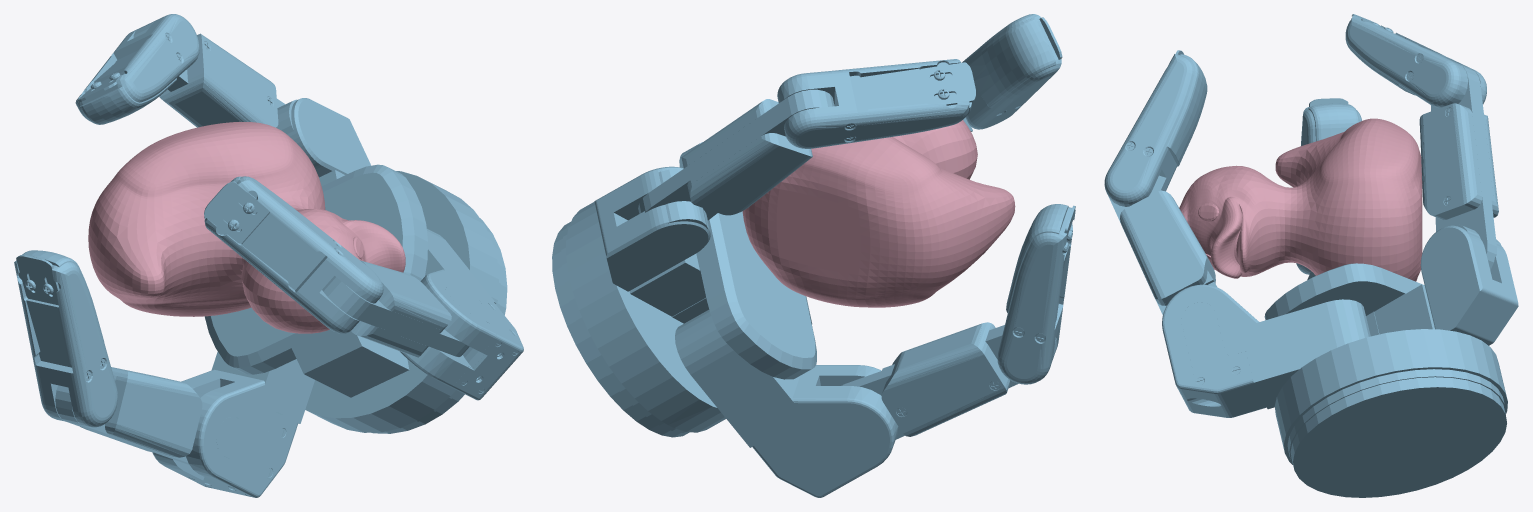
3 renders of one model, left to right at view 1: azimuth 30°, elevation 25°; view 2: azimuth 150°, elevation 25°; view 3: azimuth 270°, elevation 25°, orthographic. The views are drawn at different scales.
Visible parts, largest first — view 1: world, rubber_duck.stl; view 2: world, rubber_duck.stl; view 3: world, rubber_duck.stl.
Boxes of the visible parts, bbox=[...] form: world: bbox=[14, 14, 523, 497]; rubber_duck.stl: bbox=[88, 121, 405, 333]; world: bbox=[552, 14, 1075, 497]; rubber_duck.stl: bbox=[742, 120, 1015, 307]; world: bbox=[1104, 14, 1518, 497]; rubber_duck.stl: bbox=[1179, 118, 1422, 281].
Size of the model in its own units: 0.1924 by 0.1721 by 0.1607.
